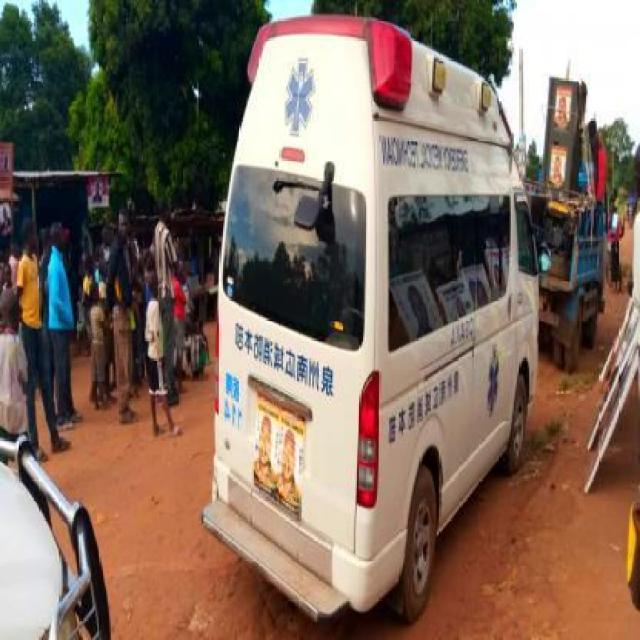emergency: (201, 12, 543, 624)
